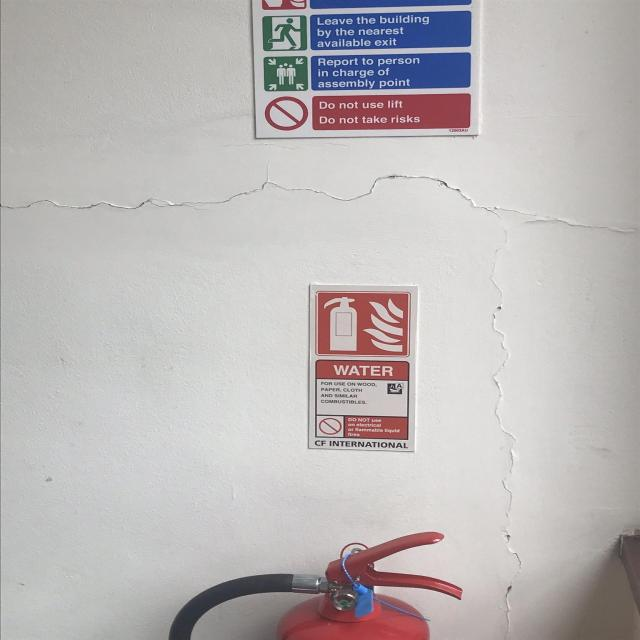fire_extinguisher: (164, 530, 468, 640)
